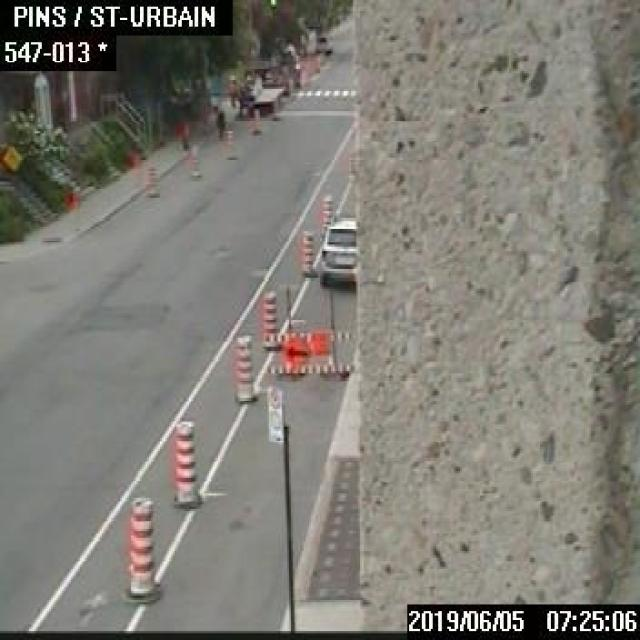construction: (258, 326, 351, 376), (126, 494, 154, 596), (169, 418, 196, 504), (259, 286, 279, 346), (233, 338, 251, 402), (61, 189, 80, 231), (314, 195, 332, 238), (298, 229, 313, 275), (145, 164, 156, 193), (250, 108, 260, 132), (190, 145, 198, 173), (224, 128, 232, 155)
pedestrian: (214, 106, 224, 137)
vehicle: (316, 214, 356, 284), (313, 34, 331, 53)
